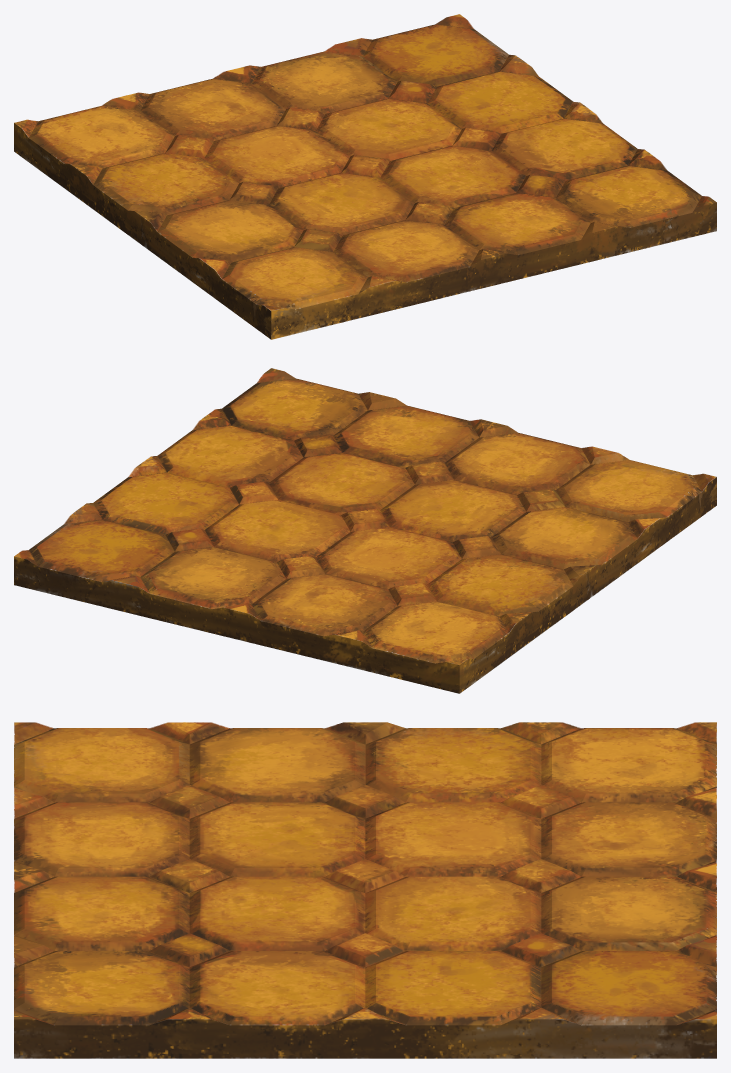
Rendered from Floor_Circled.fbx.
3 views of the same model, one above another, from view 1: azimuth 30°, elevation 25°; view 2: azimuth 150°, elevation 25°; view 3: azimuth 270°, elevation 25° (orthographic). The views are drawn at different scales.
Visible parts, largest first — view 1: Floor_Circled; view 2: Floor_Circled; view 3: Floor_Circled.
Boxes of the visible parts, left/top/right/bottom form: Floor_Circled: left=14, top=14, right=716, bottom=339; Floor_Circled: left=14, top=368, right=716, bottom=693; Floor_Circled: left=14, top=722, right=716, bottom=1058.
Size of the model in its own units: 484 by 29.74 by 484.
